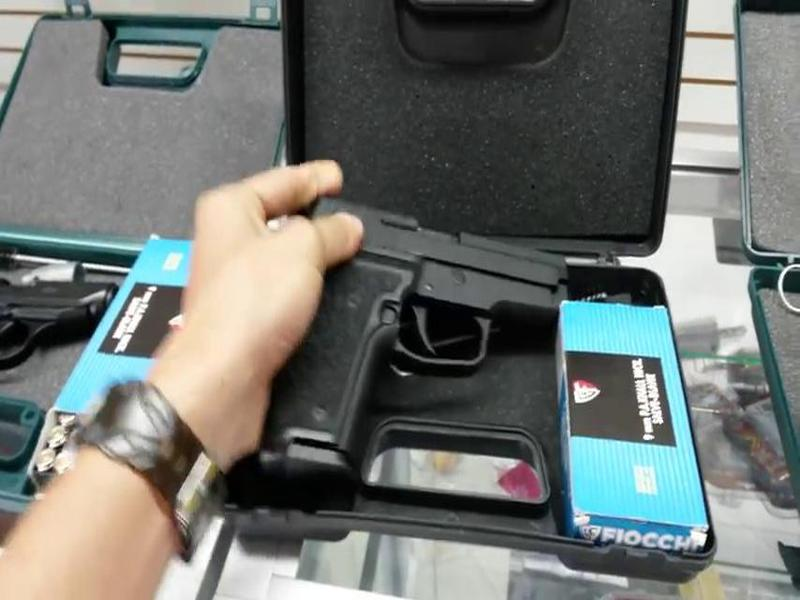Pistola: (208, 191, 592, 504)
